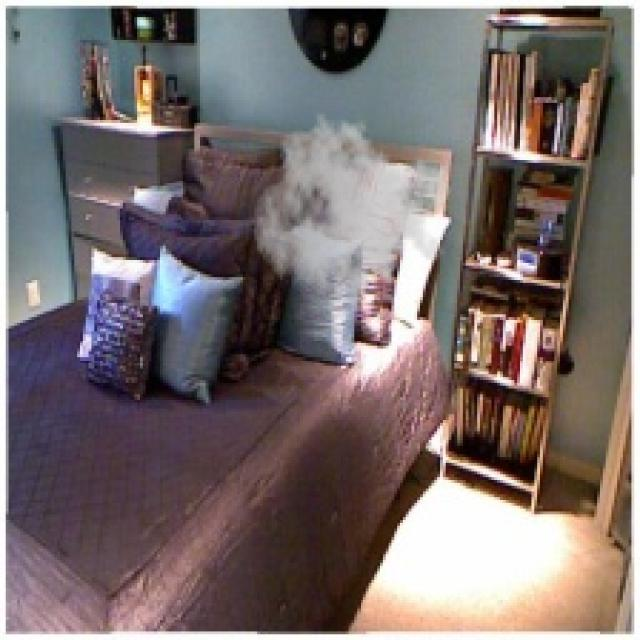smoke: (252, 111, 452, 320)
